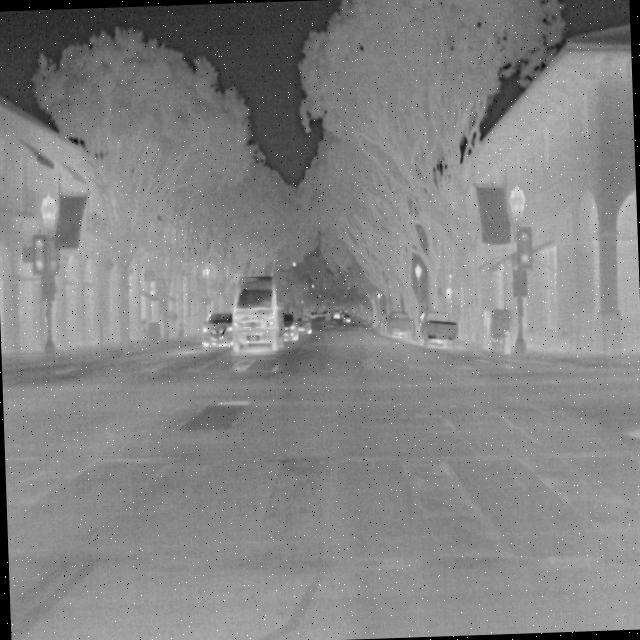Vehicle: (228, 272, 281, 354), (199, 309, 232, 348)
